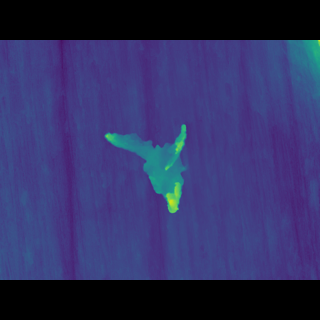Loch: (98, 129, 197, 200)
